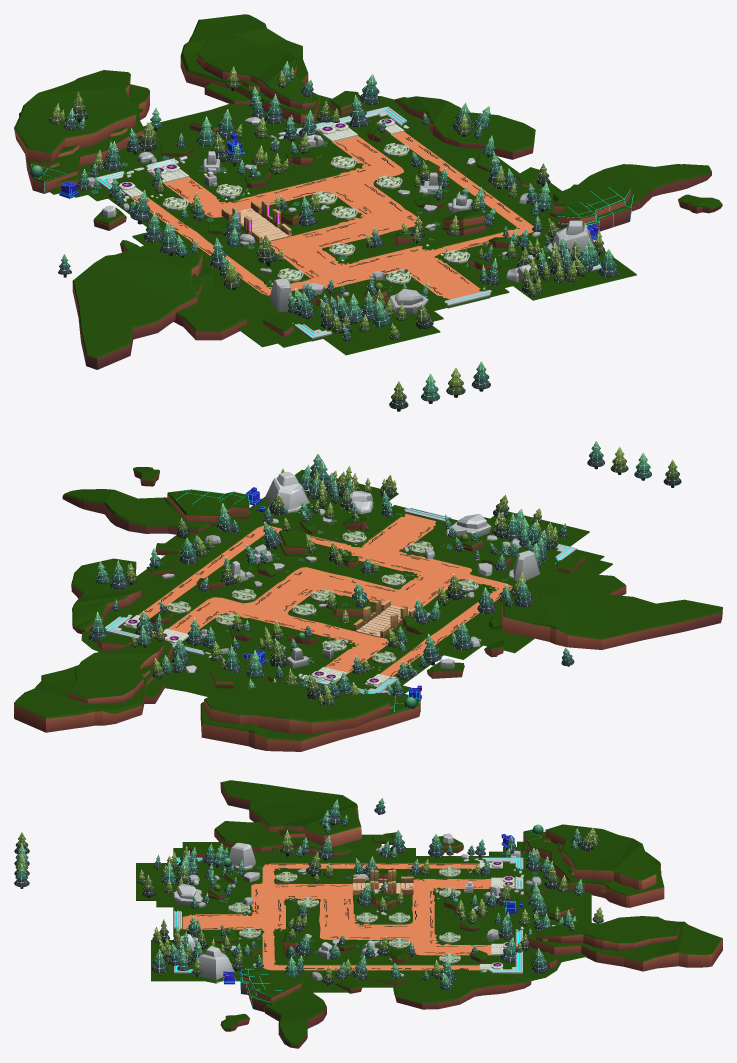
Rendered from map_new.fbx.
The picture shows the model from 3 angles, top to bottom: view 1: azimuth 30°, elevation 25°; view 2: azimuth 150°, elevation 25°; view 3: azimuth 270°, elevation 25°; orthographic projection. The views are drawn at different scales.
Visible parts, largest first — view 1: SM_Grass, SM_Path, SM_Platform_38, SM_Platform_02, SM_Platform_23, SM_Platform_22, SM_Platform_28, SM_Platform_01, SM_Platform_36, SM_Platform_41, SM_Platform_11, SM_Frame (+3 smaller); view 2: SM_Grass, SM_Path, SM_Platform_38, SM_Platform_02, SM_Platform_22, SM_Platform_23, SM_Platform_11, SM_Platform_01, SM_Platform_28, SM_Platform_41, SM_Platform_36, SM_Frame (+4 smaller); view 3: SM_Grass, SM_Path, SM_Platform_38, SM_Platform_02, SM_Platform_22, SM_Platform_23, SM_Platform_28, SM_Platform_11, SM_Platform_01, SM_Platform_36, SM_Platform_41, SM_Frame (+3 smaller).
Boxes of the visible parts, left/top/right/bottom form: SM_Grass: left=49, top=95, right=636, bottom=355; SM_Path: left=131, top=131, right=533, bottom=299; SM_Platform_38: left=72, top=241, right=202, bottom=369; SM_Platform_02: left=14, top=70, right=136, bottom=162; SM_Platform_23: left=197, top=33, right=313, bottom=108; SM_Platform_22: left=180, top=14, right=320, bottom=124; SM_Platform_28: left=394, top=96, right=535, bottom=159; SM_Platform_01: left=553, top=164, right=711, bottom=211; SM_Platform_36: left=173, top=264, right=246, bottom=340; SM_Platform_41: left=549, top=184, right=633, bottom=231; SM_Platform_11: left=19, top=84, right=149, bottom=193; SM_Frame: left=94, top=106, right=601, bottom=341; SM_Grass: left=81, top=469, right=612, bottom=697; SM_Path: left=138, top=514, right=512, bottom=677; SM_Platform_38: left=501, top=590, right=722, bottom=649; SM_Platform_02: left=204, top=682, right=389, bottom=734; SM_Platform_22: left=14, top=639, right=172, bottom=732; SM_Platform_23: left=67, top=637, right=164, bottom=703; SM_Platform_11: left=200, top=695, right=420, bottom=751; SM_Platform_01: left=62, top=489, right=210, bottom=534; SM_Platform_28: left=71, top=558, right=142, bottom=633; SM_Platform_41: left=164, top=489, right=249, bottom=526; SM_Platform_36: left=488, top=573, right=626, bottom=629; SM_Frame: left=104, top=484, right=576, bottom=694; SM_Grass: left=136, top=834, right=591, bottom=992; SM_Path: left=182, top=863, right=500, bottom=970; SM_Platform_38: left=220, top=780, right=361, bottom=846; SM_Platform_02: left=545, top=824, right=656, bottom=890; SM_Platform_22: left=528, top=920, right=722, bottom=971; SM_Platform_23: left=535, top=916, right=679, bottom=950; SM_Platform_28: left=393, top=968, right=531, bottom=1009; SM_Platform_11: left=523, top=829, right=664, bottom=907; SM_Platform_01: left=263, top=982, right=326, bottom=1048; SM_Platform_36: left=214, top=821, right=351, bottom=855; SM_Platform_41: left=240, top=967, right=301, bottom=1011; SM_Frame: left=174, top=857, right=523, bottom=973.
Size of the model in its own units: 149 by 19.03 by 171.
